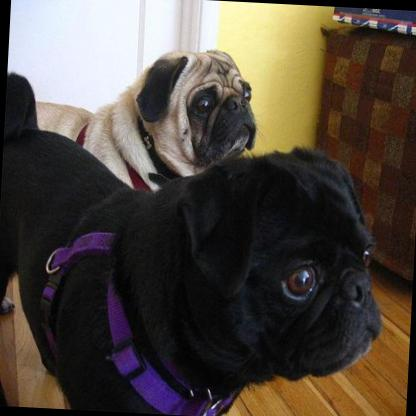pug: (0, 70, 391, 416), (1, 37, 266, 194)
